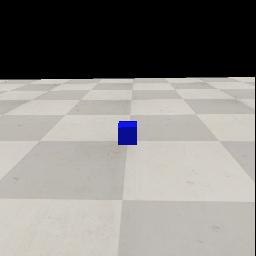box: (118, 121, 137, 145)
